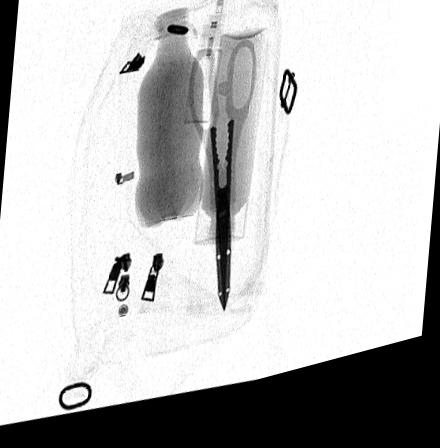Scissors: (184, 49, 258, 331)
